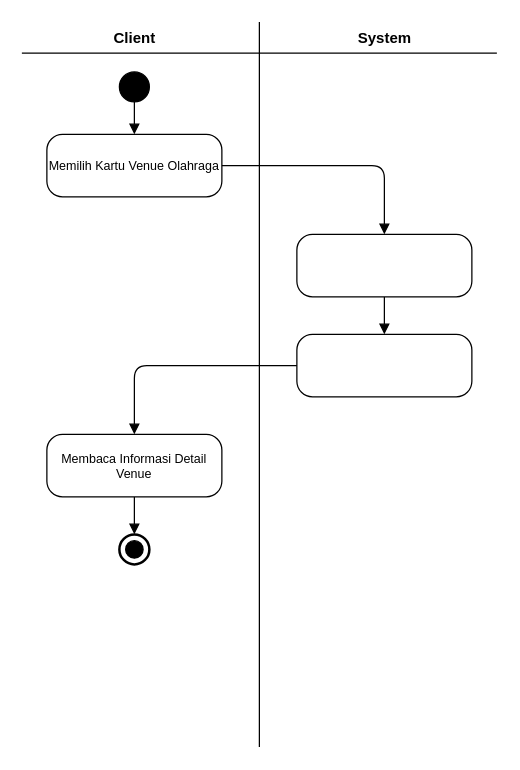
The diagram is 520 pixels wide and 770 high, and some of its shapes have lost their labels. The shapes that lost their labels are listed below. From the top down, each one's centre as x and y in pixels, then its label:
pixel 384 265: Mengambil Detail Alamat, Jadwal, & Foto
pixel 384 365: Menampilkan Detail Venue & Unit Lapangan
